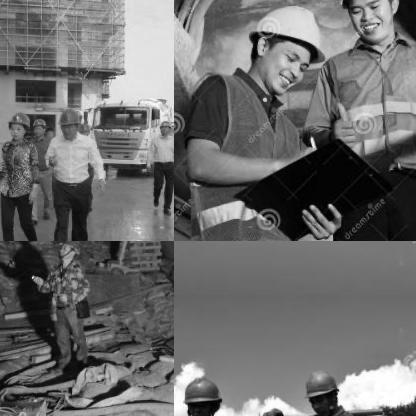Helmet: (235, 0, 329, 91), (331, 0, 406, 48), (299, 363, 339, 415), (179, 372, 224, 415), (54, 105, 80, 137), (5, 110, 29, 138), (57, 241, 84, 260), (30, 114, 44, 138), (158, 118, 172, 134)
